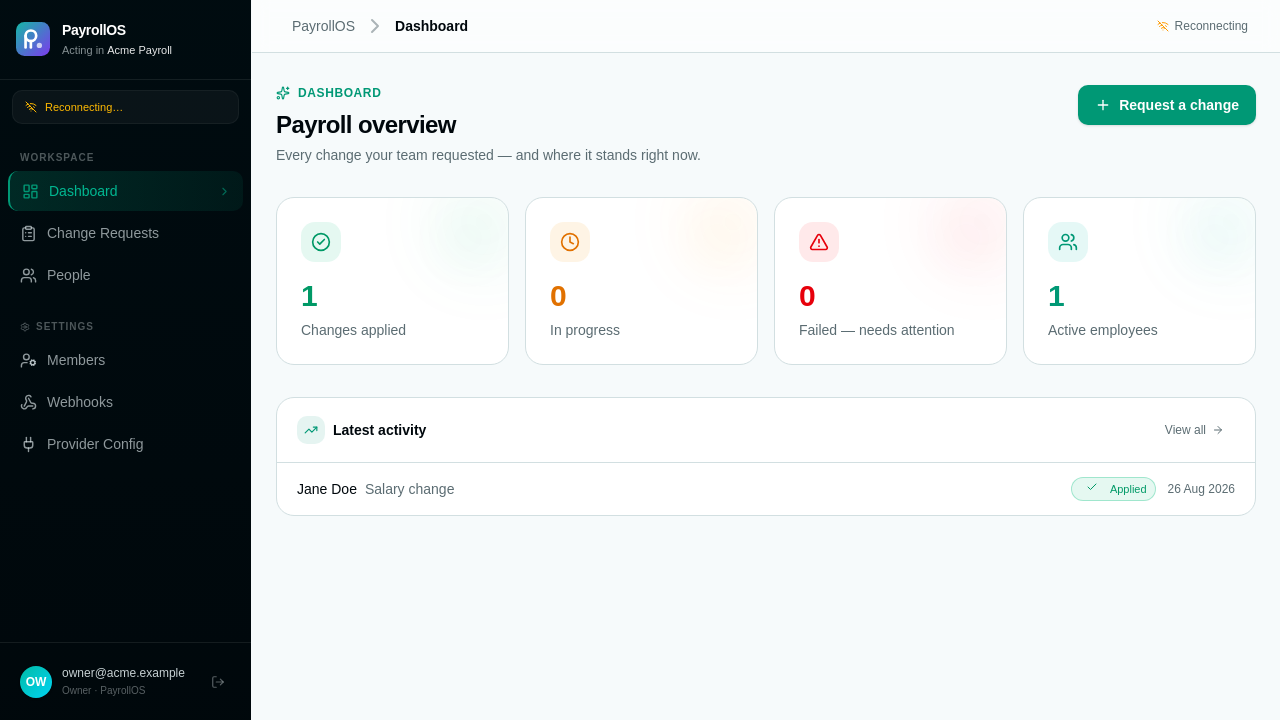
Scenario: App workspace (new IA) › the People view shows the roster, applied state, and prefill hand-off
Expected: the element with test id "dashboard-view" is shown, [276,85,1256,516]
Click the menu item with test id "view-people" at (126,275), box [8,255,243,295]
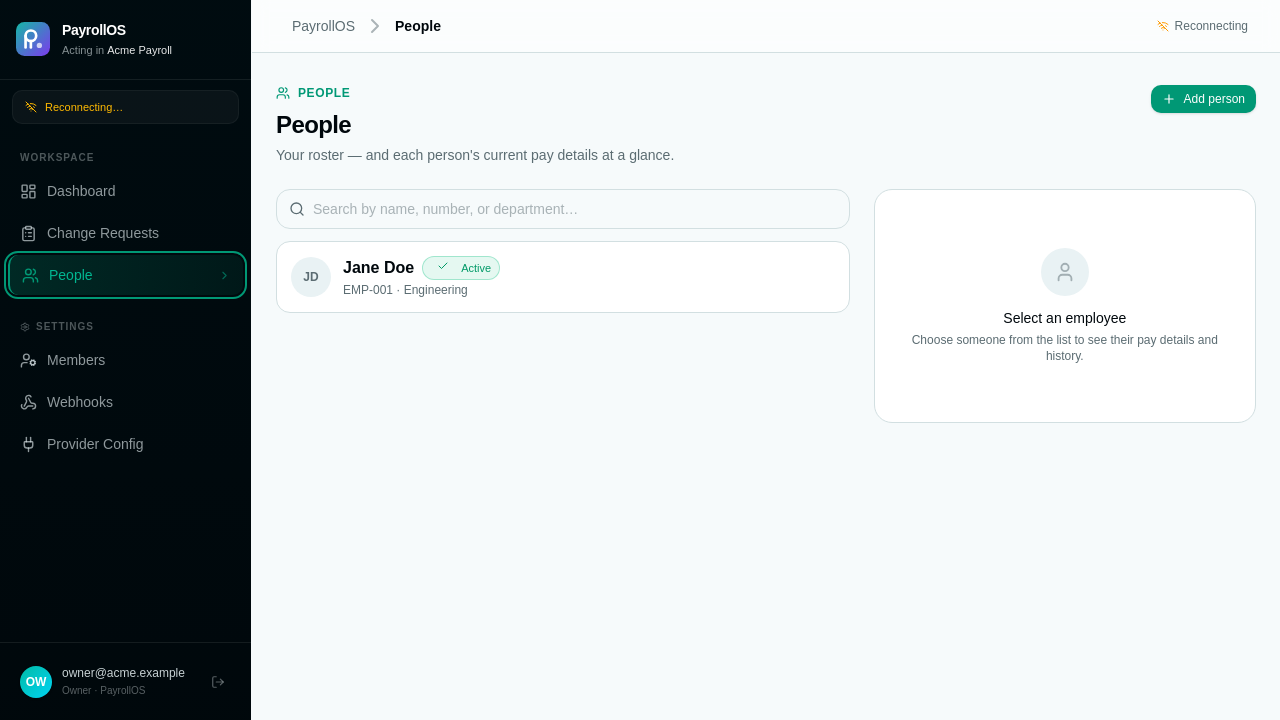
Expected: the button with test id "people-row-EMP-001" is shown
Click the button with test id "people-row-EMP-001" at (311,277), box [276,241,850,313]
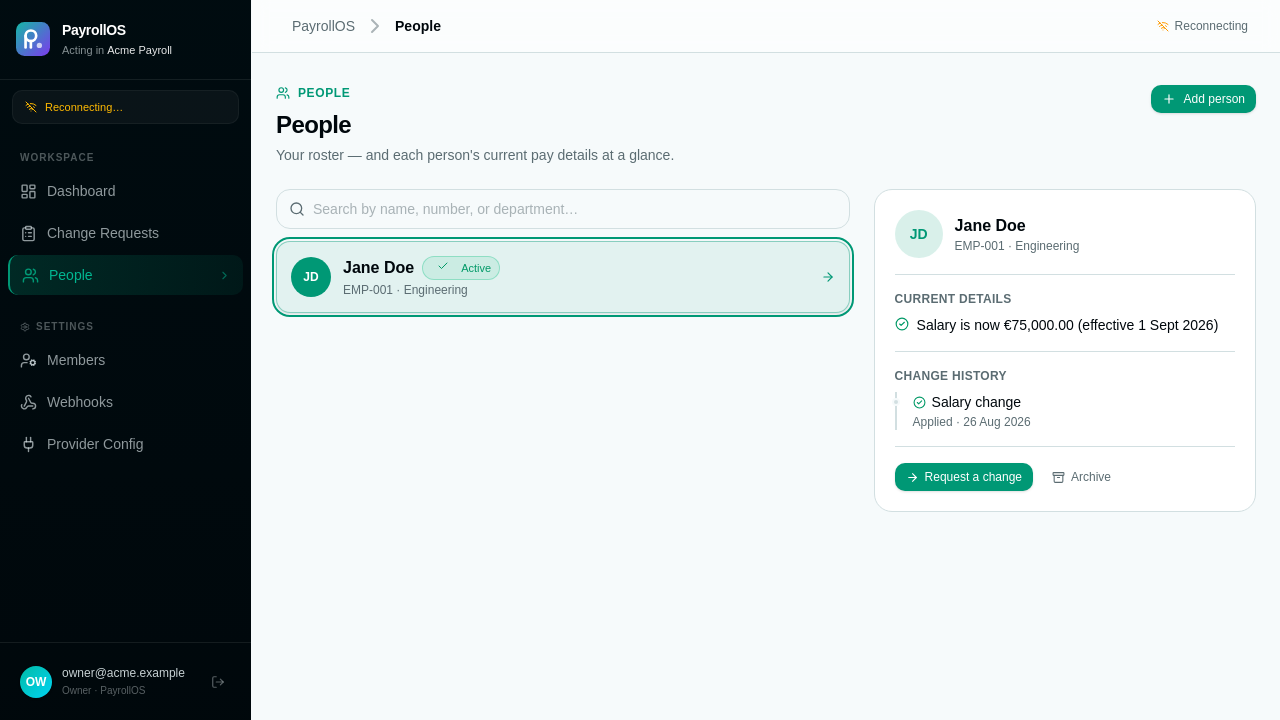
Expected: the list with test id "person-current" shows "75,000", [917,317,1218,333]
Click the button with test id "person-request-change" at (964,477), box [895,463,1033,491]
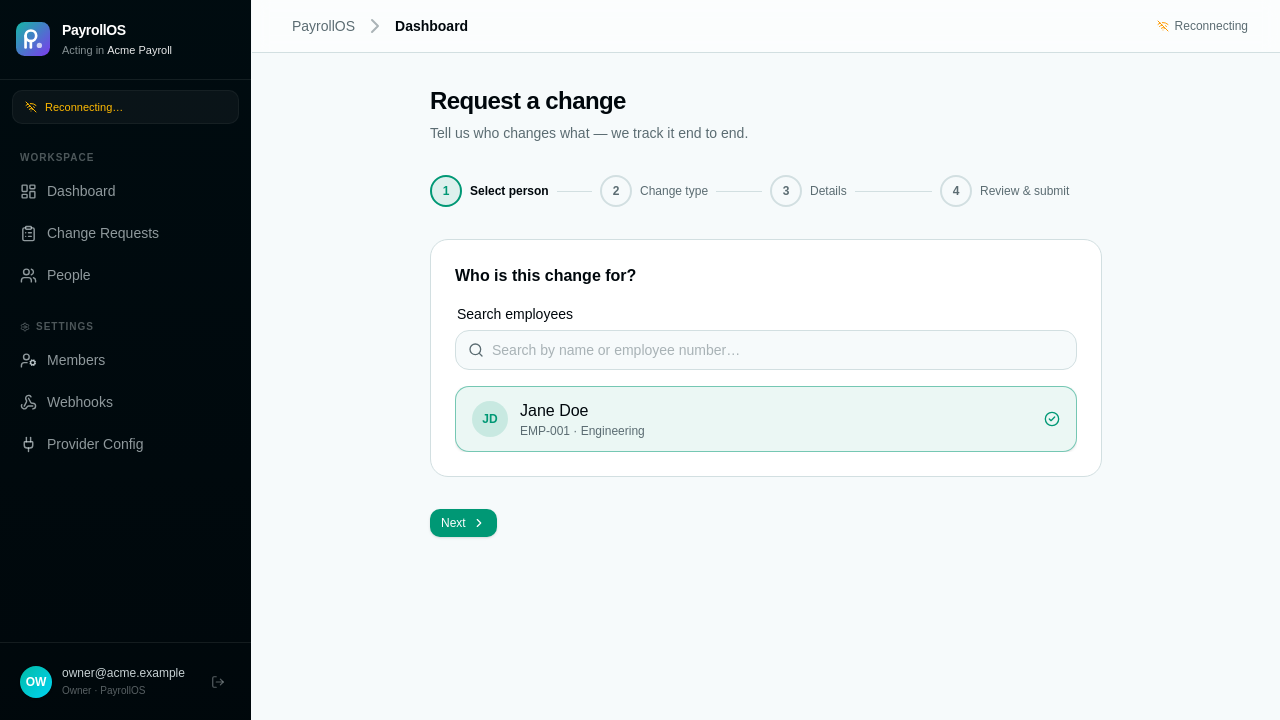
Expected: the button with test id "wizard-person-EMP-001" shows "Jane Doe", [455,386,1077,452]
Expected: the element with test id "request-change-view" is shown, [430,85,1102,537]
